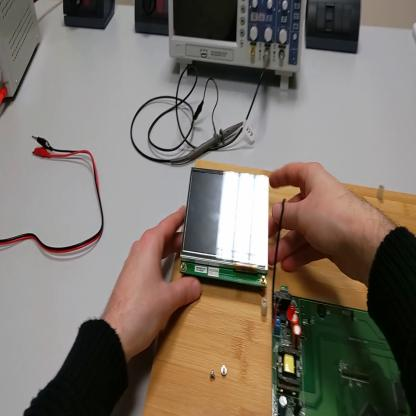hand: (108, 207, 200, 356), (267, 160, 371, 284)
low voltage board: (267, 194, 416, 414)
oscilloscope: (167, 1, 308, 87)
oscilloscope probe tip: (173, 122, 246, 166)
power supply: (2, 4, 44, 110)
socket: (64, 1, 116, 32), (134, 2, 169, 37)
working area: (144, 163, 416, 416)
